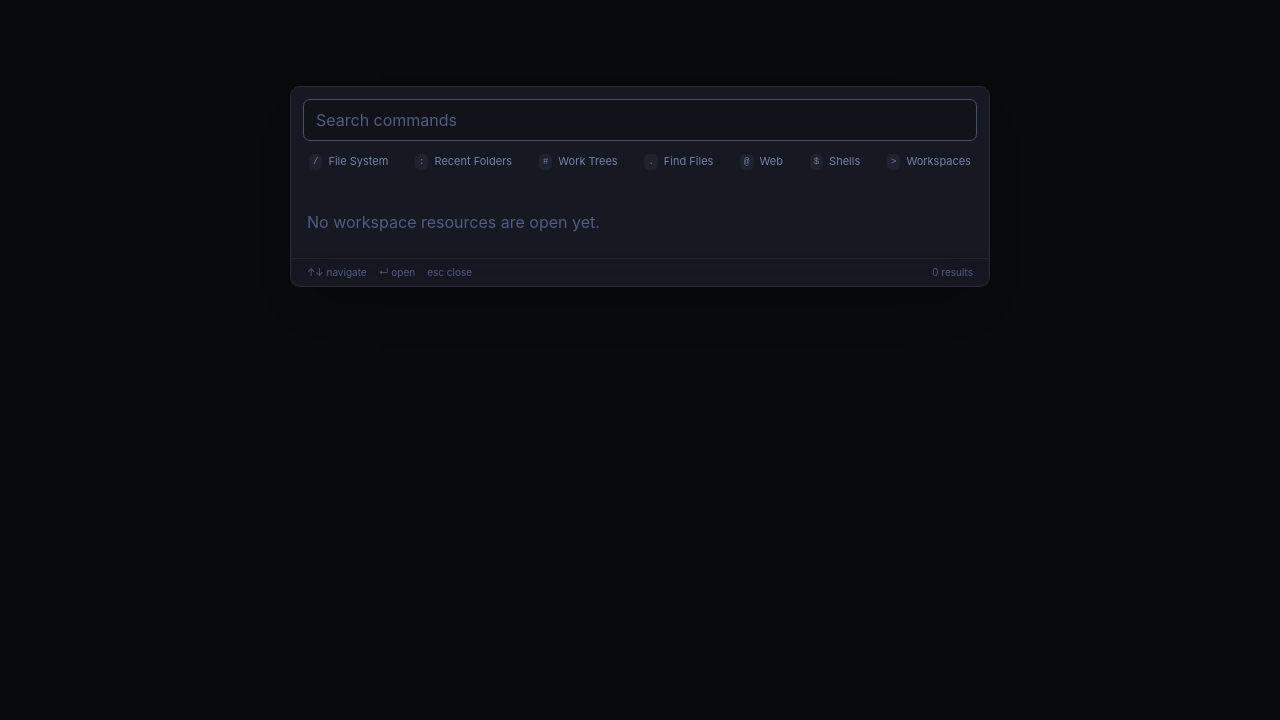
Scenario: UniversalMenu baseline shell › disables Open Git Diff without an active working directory
In the field named "Universal menu search": (640, 120) [316,108,964,132], type "git diff"
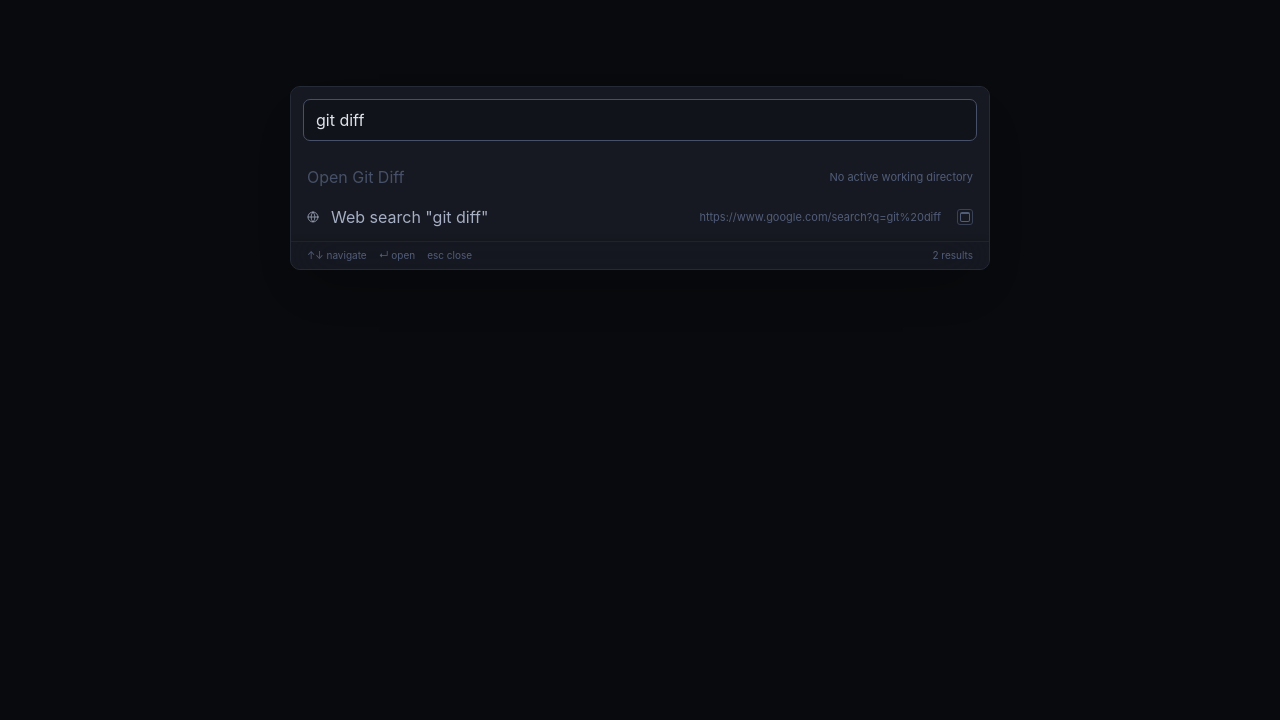
Now the button "Open Git Diff No active working directory" is disabled, box [291,157,989,197]
Now the text "No active working directory" is shown, box [829,170,973,184]
